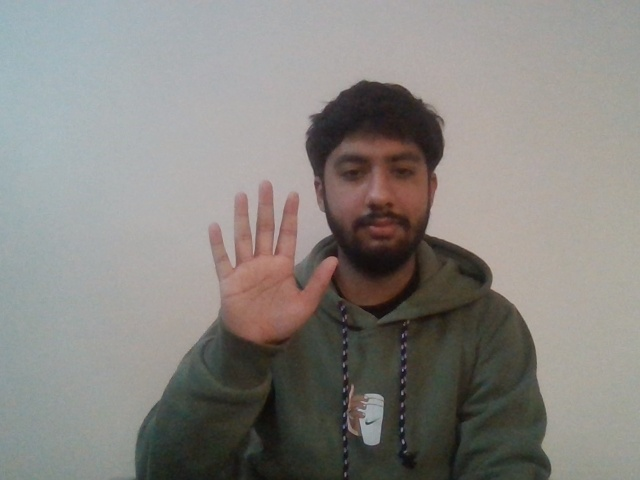Hello: (193, 177, 342, 343)
